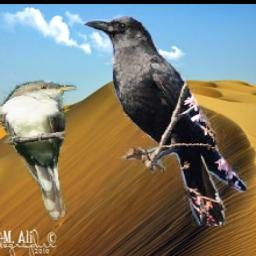Crow: (84, 14, 247, 227)
Cuckoo: (0, 80, 77, 221)
